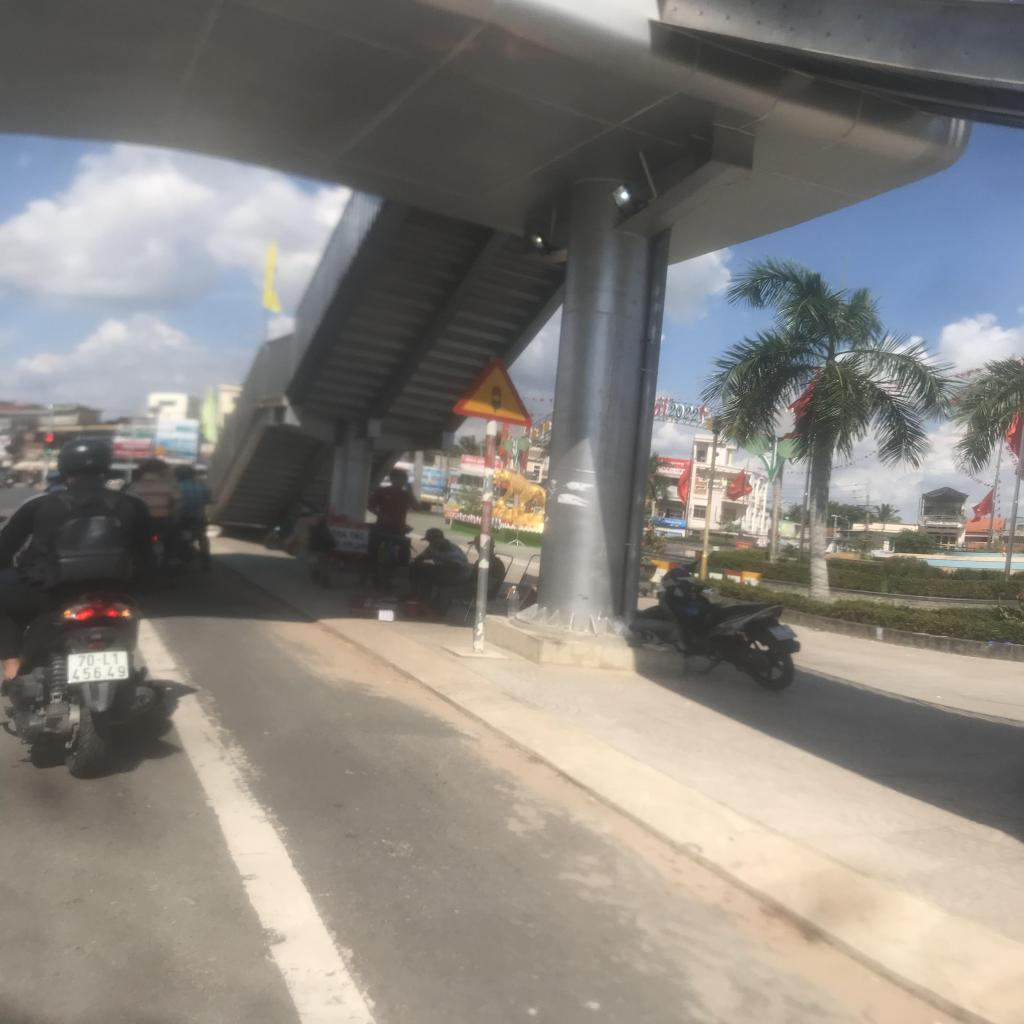giao_nhau_co_tin_hieu_den: (450, 354, 535, 426)
